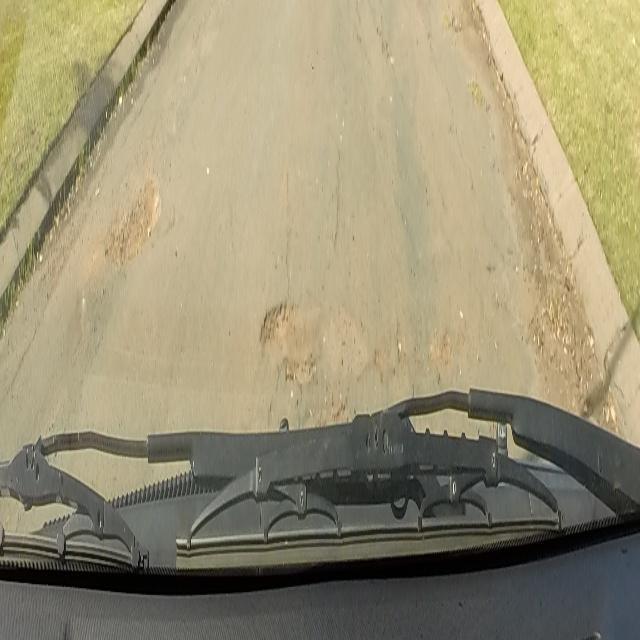pothole: (258, 297, 354, 421), (105, 175, 162, 271)
